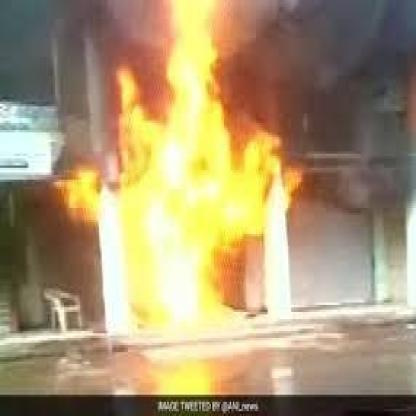Fire: (90, 0, 274, 321)
